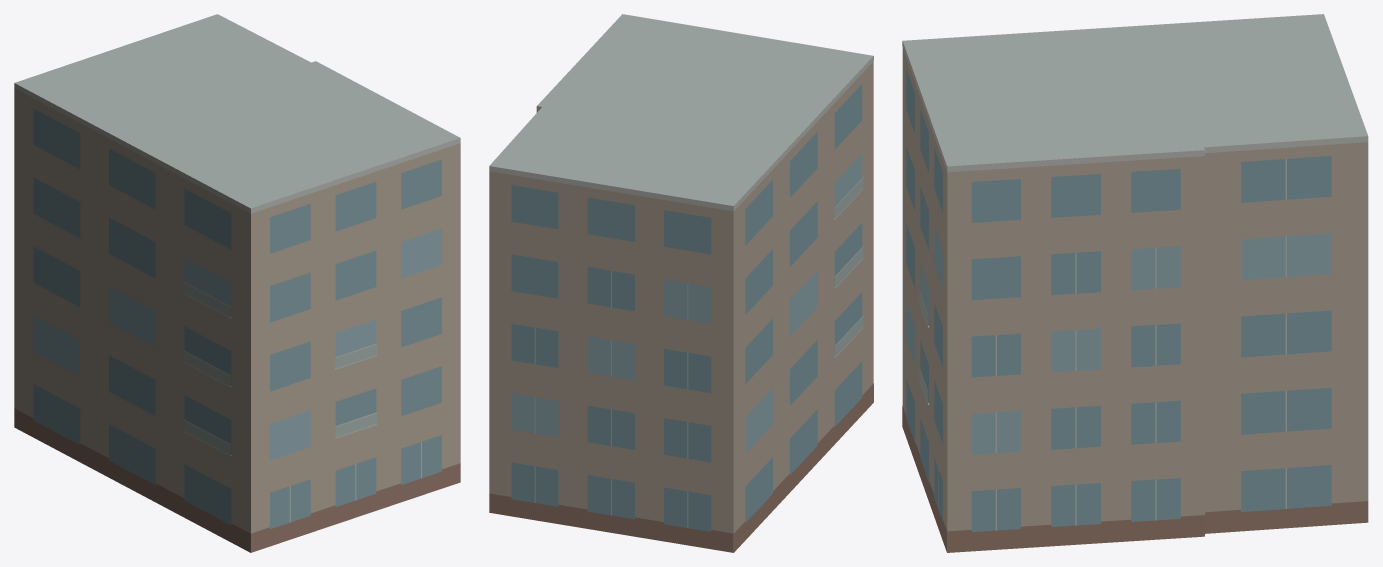
The model's file is survey-upis-32523662.glb.
3 renders of one model, left to right at view 1: azimuth 30°, elevation 25°; view 2: azimuth 150°, elevation 25°; view 3: azimuth 270°, elevation 25°, orthographic. The views are drawn at different scales.
Parts seen in each view (by area): view 1: survey-upis-32523662.tmp; view 2: survey-upis-32523662.tmp; view 3: survey-upis-32523662.tmp.
Part boxes in pixels (x1=…): survey-upis-32523662.tmp: x1=14, y1=14, x2=460, y2=552; survey-upis-32523662.tmp: x1=489, y1=14, x2=873, y2=552; survey-upis-32523662.tmp: x1=902, y1=14, x2=1368, y2=552.
Bounding box in the file's own units: 13.63 × 16.1 × 17.6.
